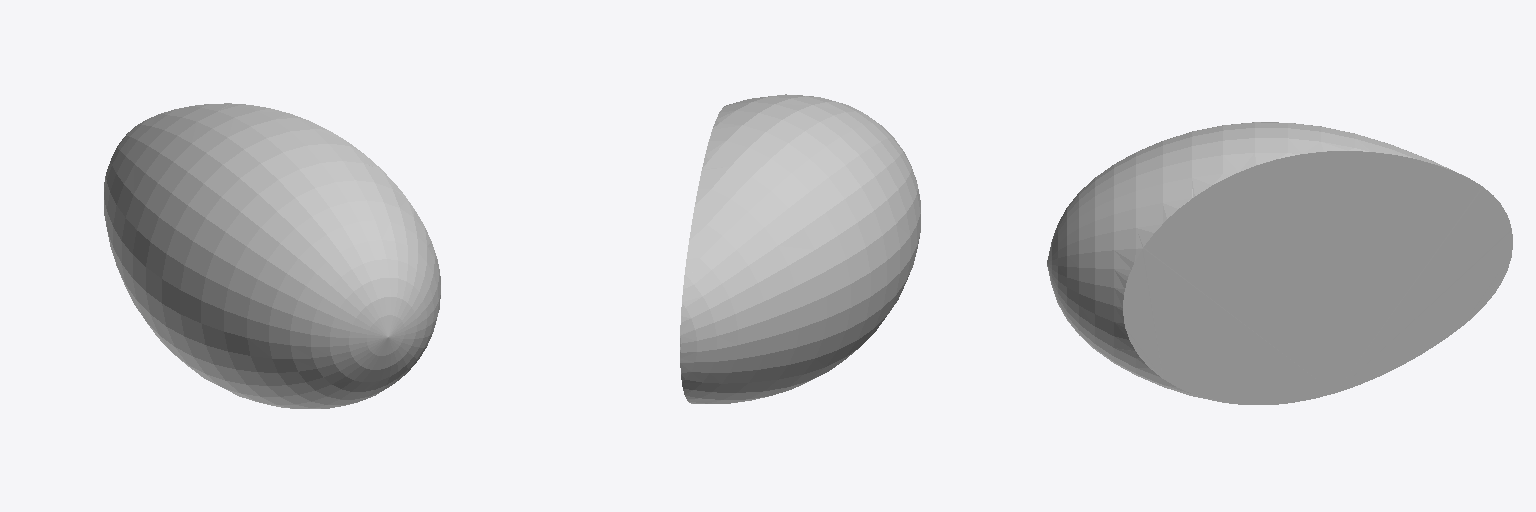
The model's file is hand_ascii.obj.
3 renders of one model, left to right at view 1: azimuth 30°, elevation 25°; view 2: azimuth 150°, elevation 25°; view 3: azimuth 270°, elevation 25°, orthographic.
Visible parts, largest first — view 1: Object__0; view 2: Object__0; view 3: Object__0.
Boxes of the visible parts, x1,y1,x2,y2 form: Object__0: [104, 103, 440, 408]; Object__0: [680, 94, 920, 403]; Object__0: [1047, 122, 1512, 404].
Bounding box in the file's own units: 0.0773 × 0.089 × 0.1463.